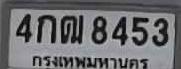3: (151, 17, 167, 45)
4: (15, 13, 31, 42), (111, 16, 126, 44)
5: (131, 16, 148, 45)
8: (91, 15, 106, 43)
A01: (36, 14, 55, 43)
A18: (60, 14, 83, 43)
BKK: (30, 52, 150, 69)
